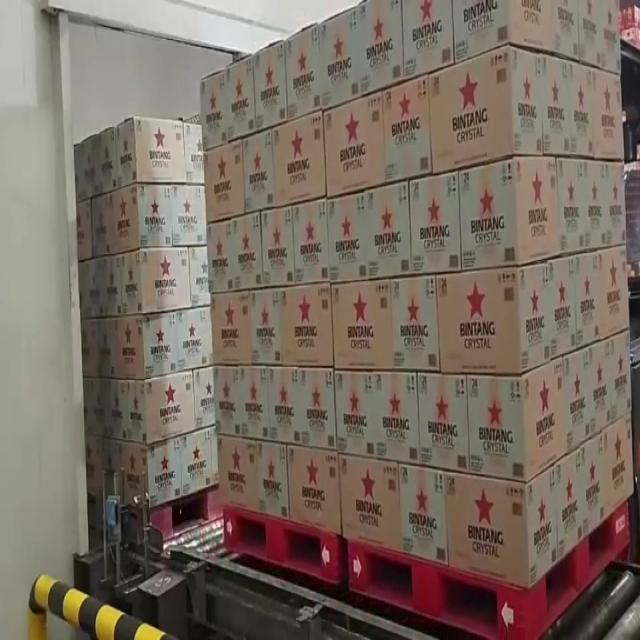pallet: (342, 0, 636, 640), (198, 21, 344, 602), (67, 114, 226, 548)
